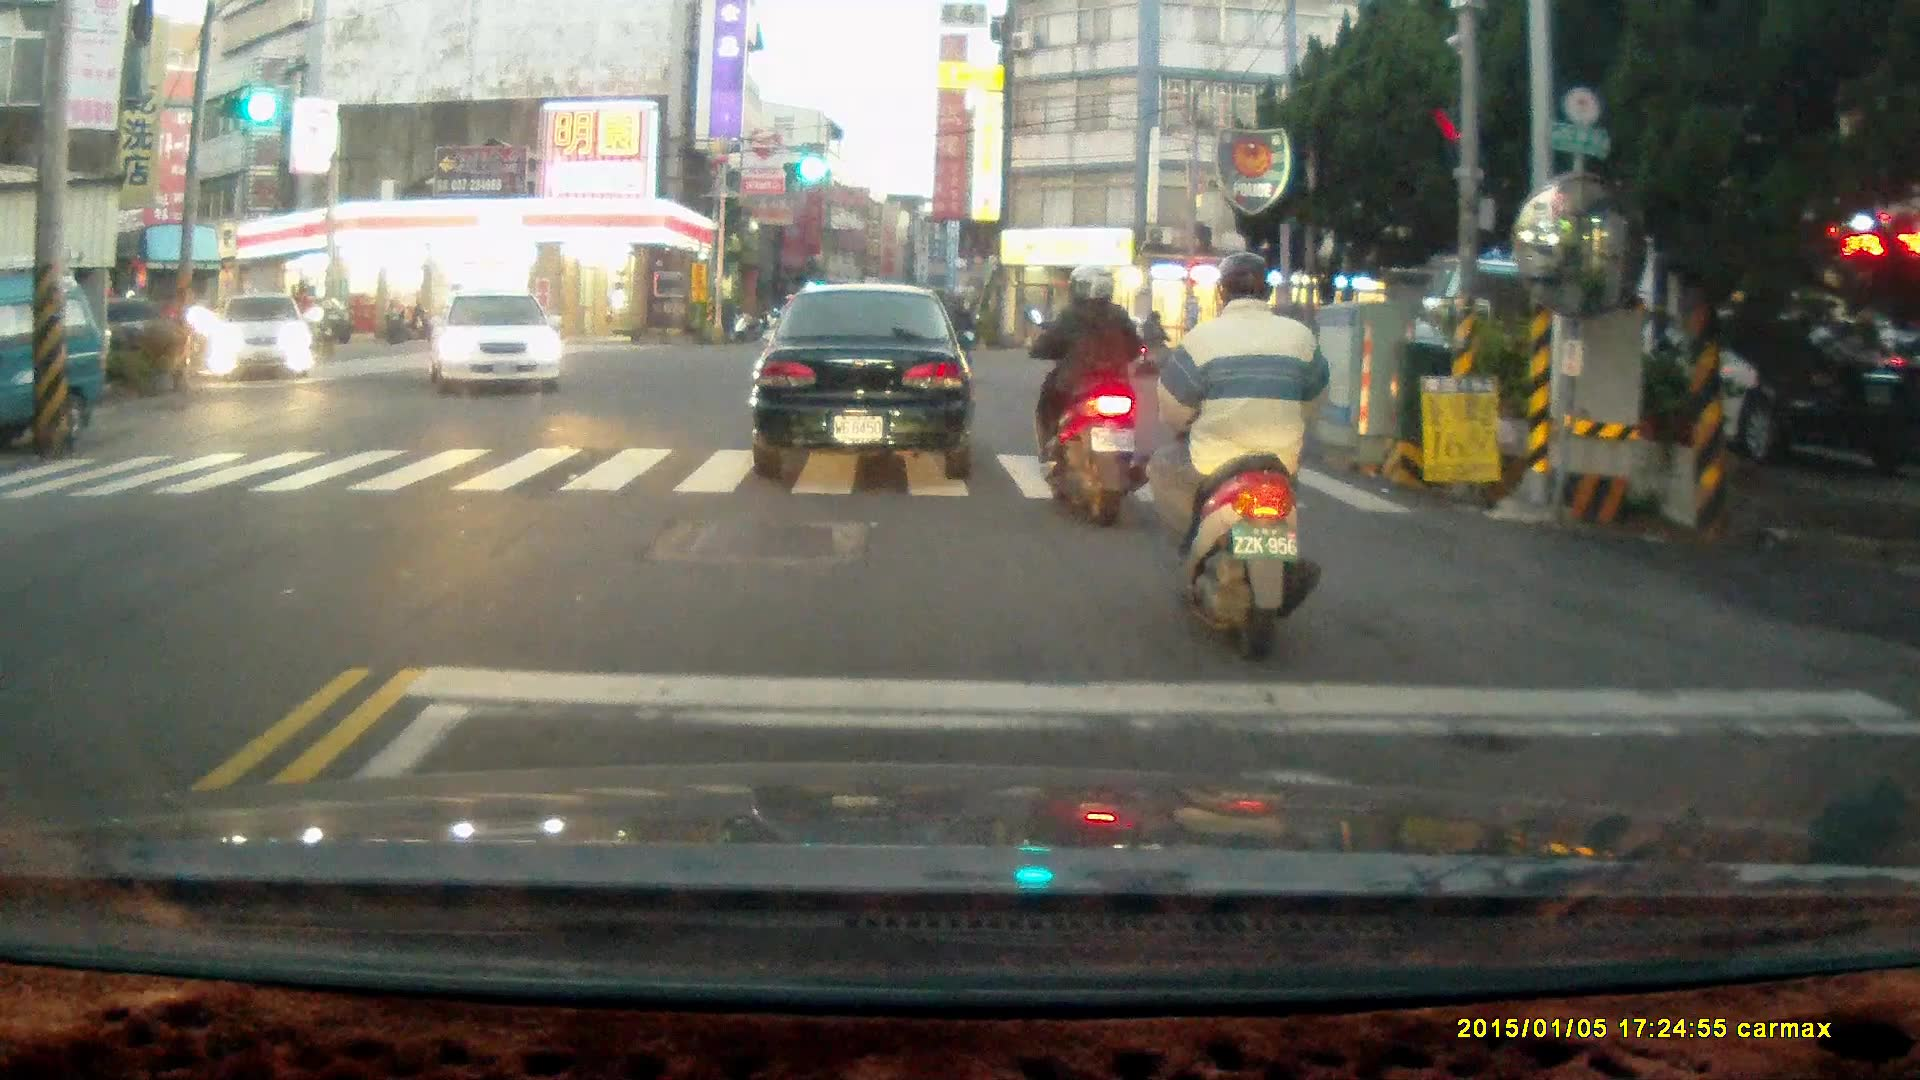rider: (1143, 238, 1330, 640), (1016, 261, 1152, 526), (289, 277, 336, 368), (1133, 305, 1173, 378), (943, 296, 982, 365)
vehicle: (1586, 286, 1915, 457), (751, 280, 977, 480), (1, 269, 111, 460), (426, 288, 566, 394), (207, 291, 316, 382)
